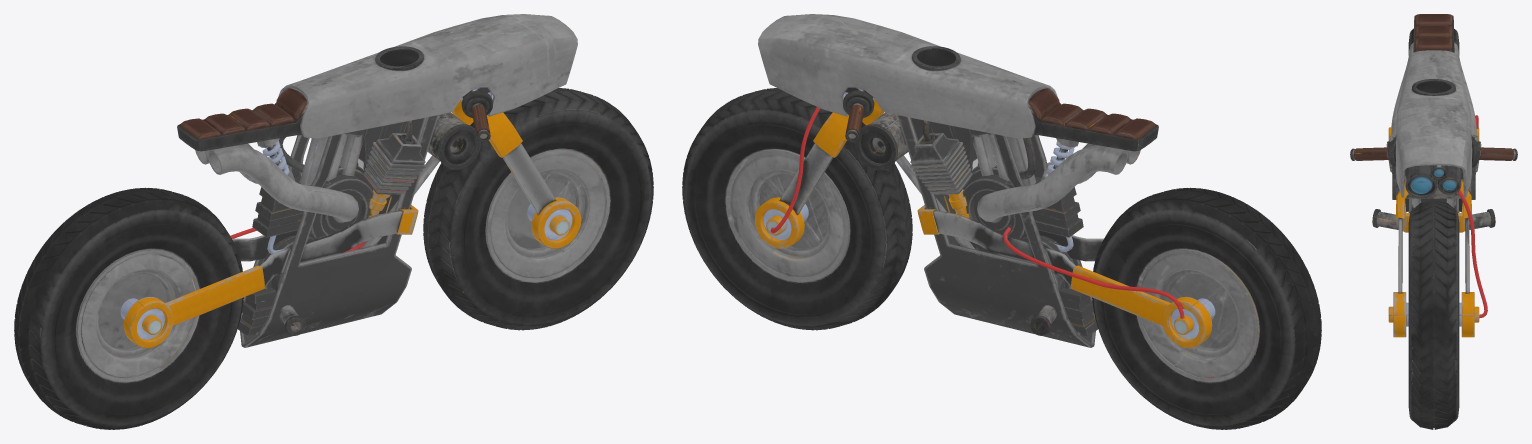
Rendered from bike.glb.
3 views of the same model, side by side, from view 1: azimuth 30°, elevation 25°; view 2: azimuth 150°, elevation 25°; view 3: azimuth 270°, elevation 25° (orthographic). The views are drawn at different scales.
Parts seen in each view (by area): view 1: Circle.003, wheel_rear, wheel_front; view 2: Circle.003, wheel_rear, wheel_front; view 3: Circle.003, wheel_front, wheel_rear.
Part boxes in pixels (x1,y1,x2,y2): Circle.003: [165, 14, 577, 347]; wheel_rear: [14, 187, 243, 429]; wheel_front: [423, 88, 653, 330]; Circle.003: [758, 14, 1184, 347]; wheel_rear: [1092, 187, 1321, 429]; wheel_front: [682, 88, 912, 330]; Circle.003: [1350, 14, 1517, 318]; wheel_front: [1388, 200, 1479, 429]; wheel_rear: [1388, 28, 1479, 212].
Bounding box in the file's own units: 2 × 0.9284 × 0.5114.
Materials: 1 (1 with a texture image).
